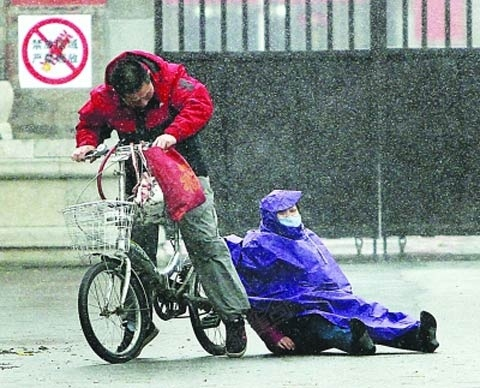falling: (223, 174, 456, 367)
